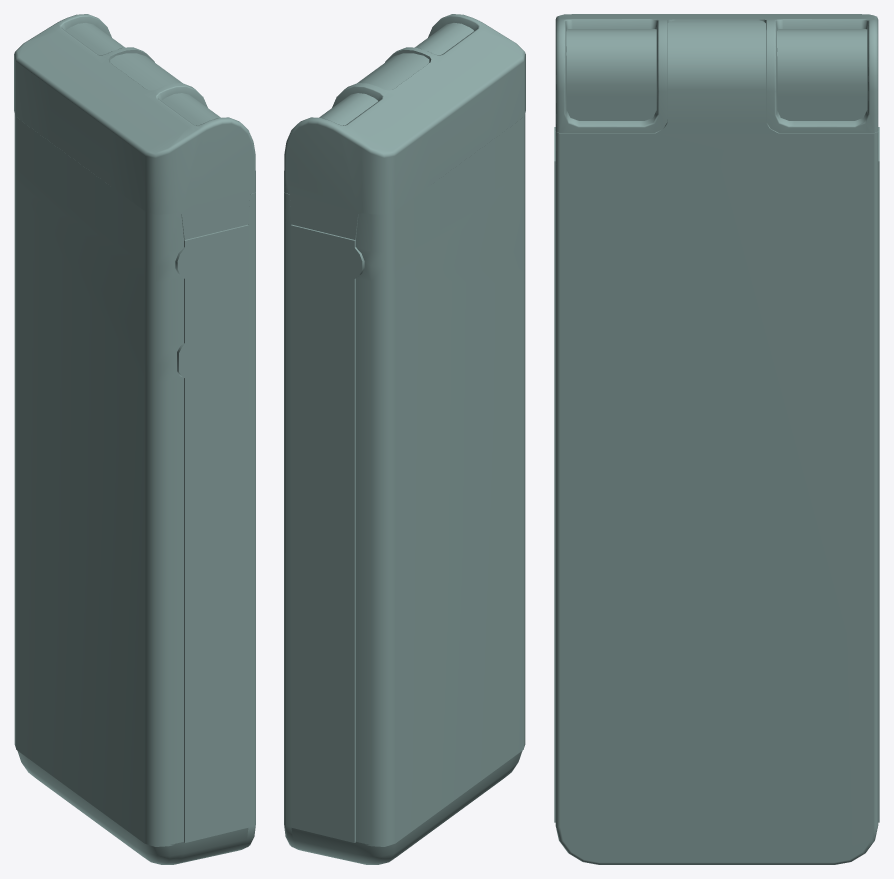
3 renders of one model, left to right at view 1: azimuth 30°, elevation 25°; view 2: azimuth 150°, elevation 25°; view 3: azimuth 270°, elevation 25°, orthographic. The views are drawn at different scales.
Parts seen in each view (by area): view 1: LP_Back_part, LP_midpartL, LP_Metal_Case, LP_Face, LP_Buttom_part, LP_MIc_L, LP_MIc_R; view 2: LP_Back_part, LP_midpartR, LP_Metal_Case, LP_Face, LP_Buttom_part, LP_MIc_R, LP_MIc_L; view 3: LP_Face, LP_Metal_Case, LP_MIc_L, LP_MIc_R, LP_midpartR, LP_midpartL.
Part boxes in pixels (x1,y1,x2,y2): LP_Back_part: (14, 114, 183, 846); LP_midpartL: (175, 224, 248, 842); LP_Metal_Case: (14, 14, 255, 239); LP_Face: (110, 53, 255, 850); LP_Buttom_part: (17, 751, 248, 864); LP_MIc_L: (162, 93, 220, 125); LP_MIc_R: (66, 23, 124, 55); LP_Back_part: (356, 114, 525, 846); LP_midpartR: (291, 224, 364, 842); LP_Metal_Case: (284, 14, 525, 239); LP_Face: (284, 53, 429, 850); LP_Buttom_part: (291, 751, 522, 864); LP_MIc_R: (319, 93, 377, 125); LP_MIc_L: (415, 23, 473, 55); LP_Face: (555, 20, 878, 864); LP_Metal_Case: (555, 14, 878, 132); LP_MIc_L: (566, 29, 656, 120); LP_MIc_R: (777, 29, 867, 120); LP_midpartR: (878, 127, 879, 822); LP_midpartL: (554, 127, 555, 822).
Bounding box in the file's own units: 1.59 × 10.98 × 3.94.
